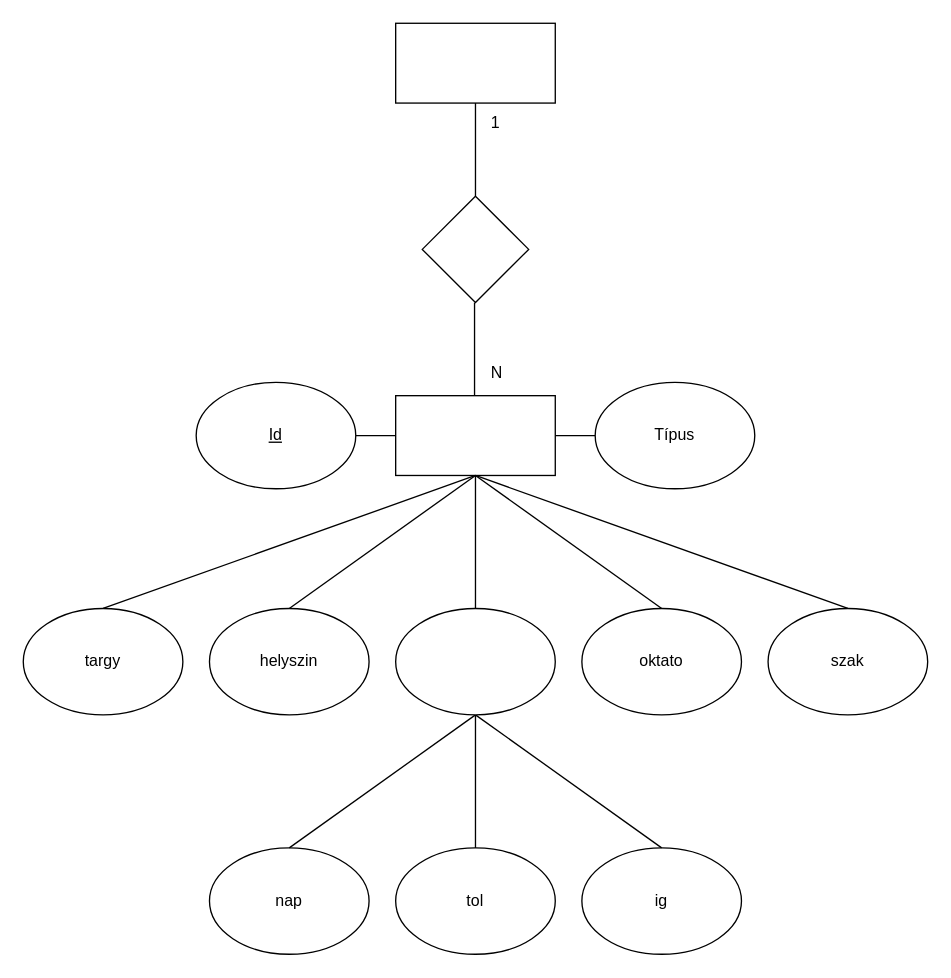
The diagram is 951 pixels wide and 978 high, and some of its shapes have lost their labels. Here are the shapes that lost their labels. From the top down, the centre of each, then its label:
(x=474, y=62): XY_orarend
(x=474, y=434): ora
(x=474, y=661): idopont
